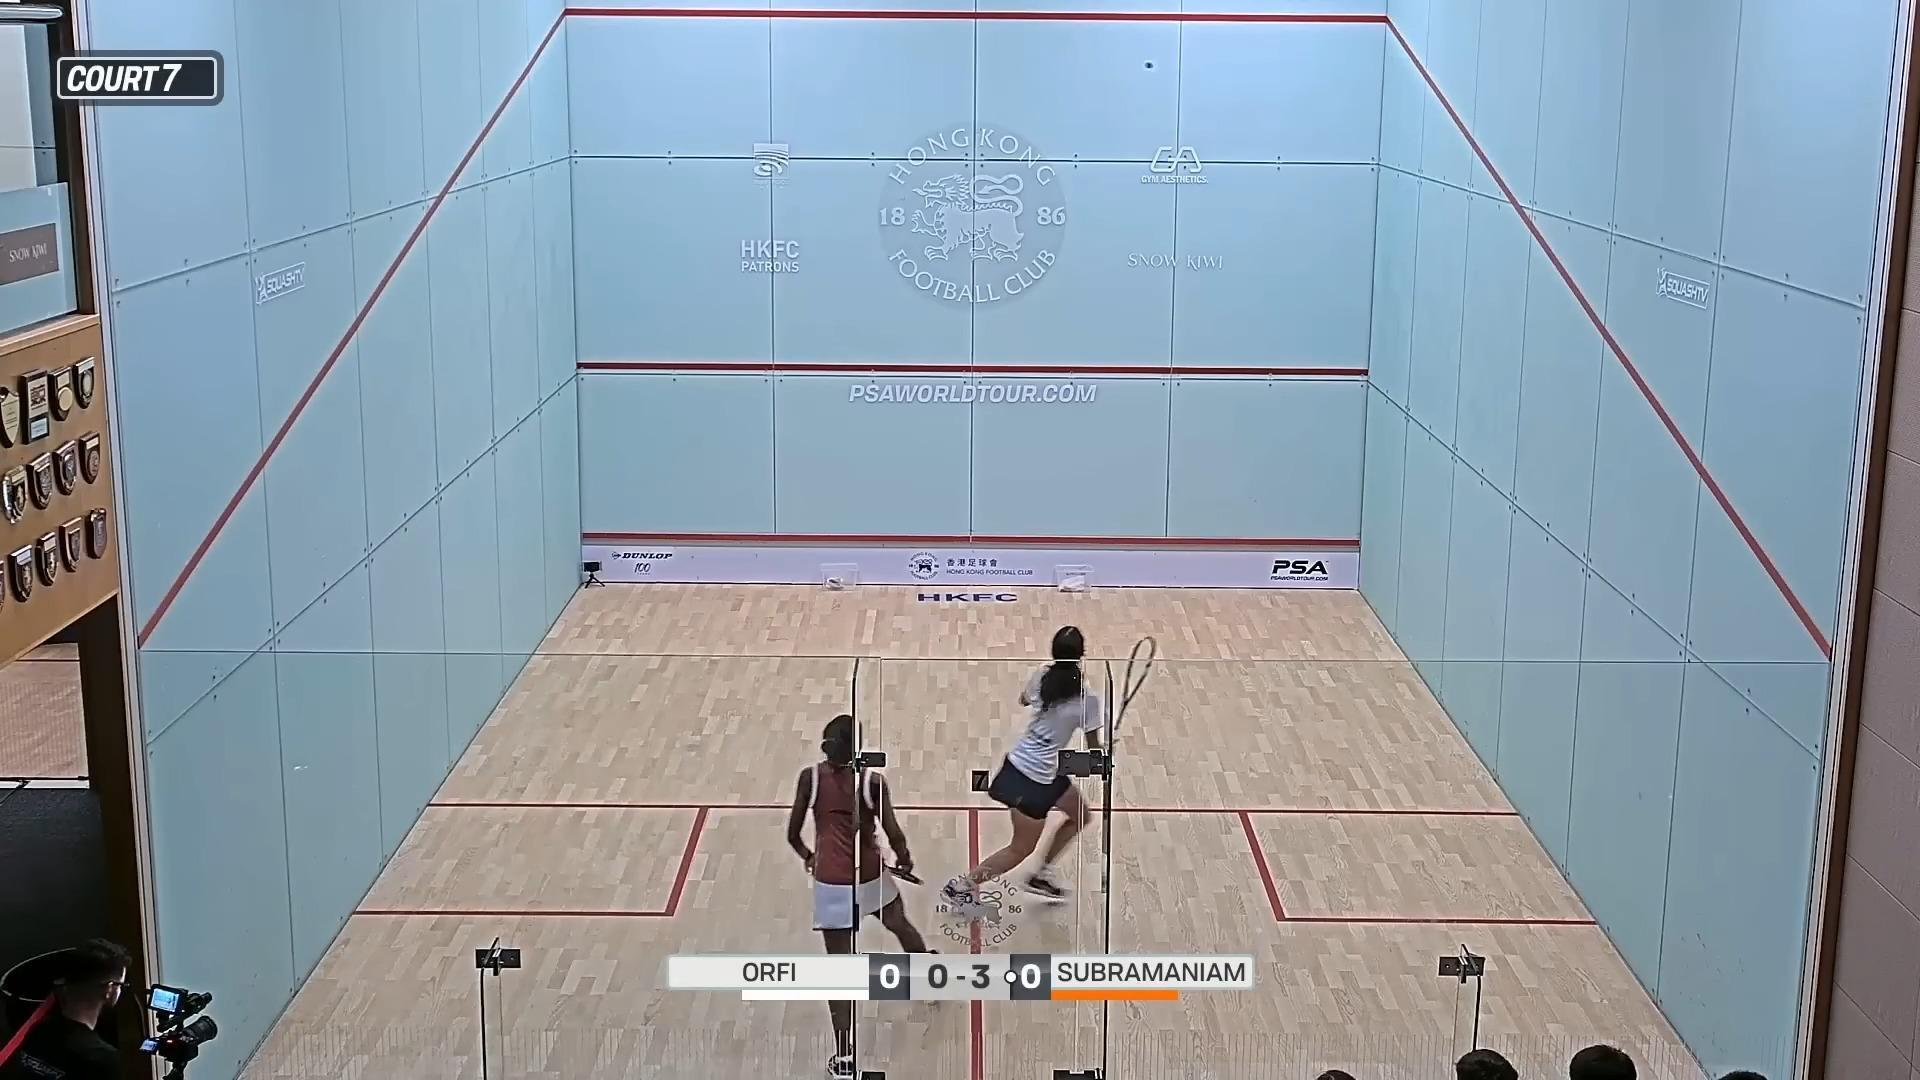Squash-Ball: (1131, 50, 1164, 79)
